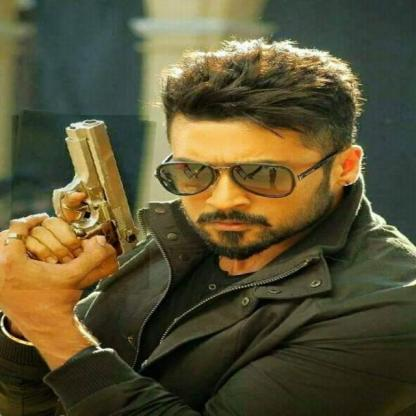handgun: (9, 112, 154, 293)
